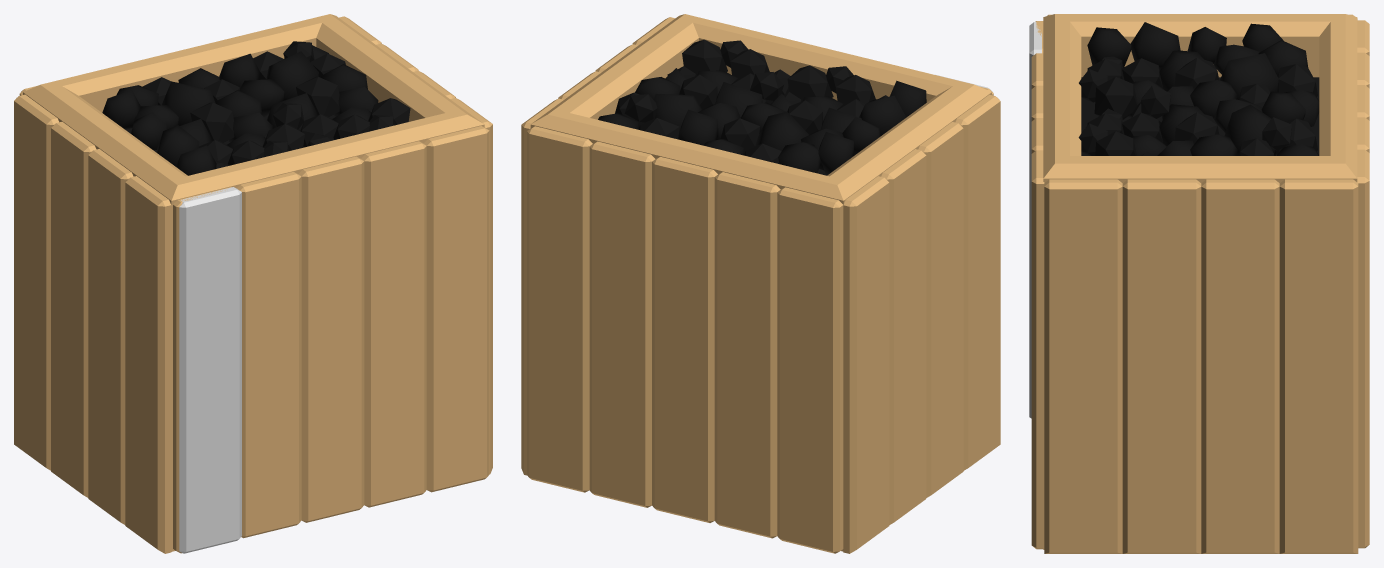
The model's file is Stove1.glb.
The picture shows the model from 3 angles, left to right: view 1: azimuth 30°, elevation 25°; view 2: azimuth 150°, elevation 25°; view 3: azimuth 270°, elevation 25°; orthographic projection. The views are drawn at different scales.
Parts seen in each view (by area): view 1: Icosphere.028, backup-desk; view 2: Icosphere.028; view 3: Icosphere.028, backup-desk.
Boxes of the visible parts, box(x1,y1,x2,y2) form: Icosphere.028: box(14, 14, 492, 553); backup-desk: box(179, 187, 241, 553); Icosphere.028: box(521, 14, 1000, 553); Icosphere.028: box(1031, 14, 1369, 553); backup-desk: box(1029, 22, 1041, 418).
Size of the model in its own units: 0.5169 by 0.5477 by 0.4292.
